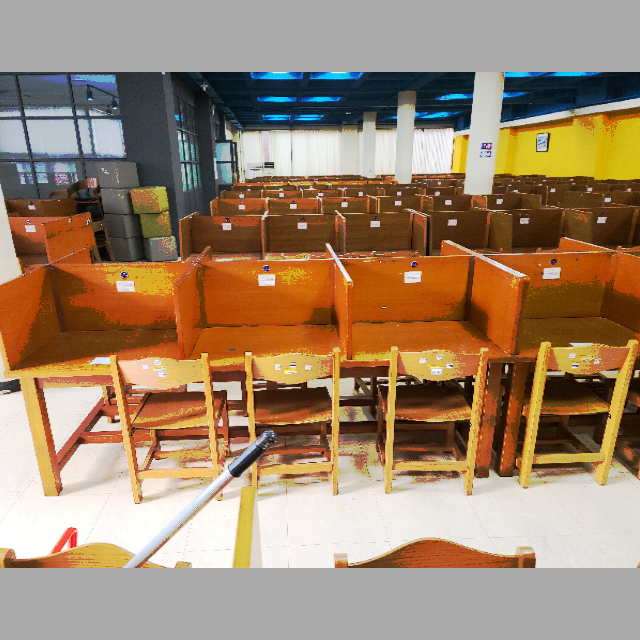empty: (1, 258, 180, 424), (186, 257, 353, 420), (355, 255, 510, 428)
